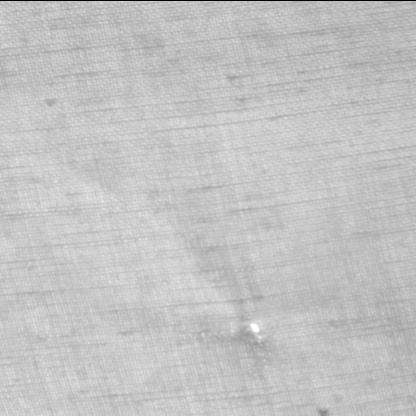hole: (239, 318, 268, 344)
